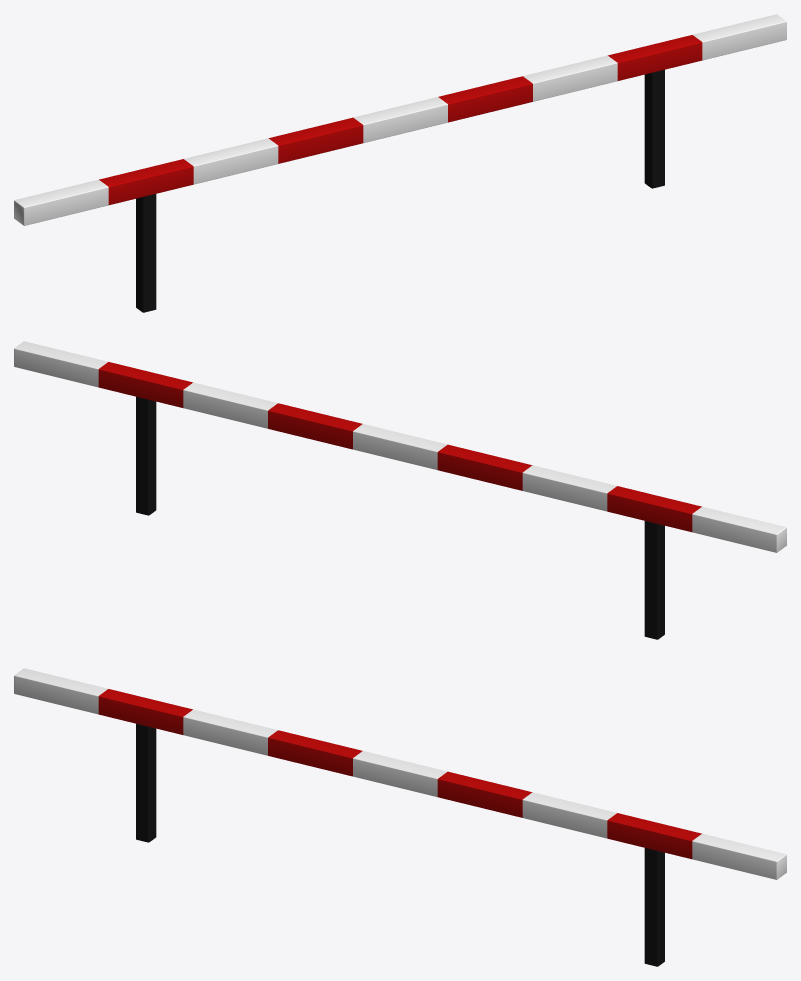
Rendered from railB.fbx.
The picture shows the model from 3 angles, top to bottom: view 1: azimuth 30°, elevation 25°; view 2: azimuth 150°, elevation 25°; view 3: azimuth 330°, elevation 25°; orthographic projection.
Visible parts, largest first — view 1: railBcolider, railBbase; view 2: railBcolider, railBbase; view 3: railBcolider, railBbase.
Part boxes in pixels (bbox=[...]): railBcolider: bbox=[14, 14, 786, 225]; railBbase: bbox=[136, 69, 664, 312]; railBcolider: bbox=[14, 341, 786, 552]; railBbase: bbox=[136, 396, 664, 639]; railBcolider: bbox=[14, 668, 786, 879]; railBbase: bbox=[136, 723, 664, 966].
Bounding box in the file's own units: 352 × 59.67 × 8.21.
